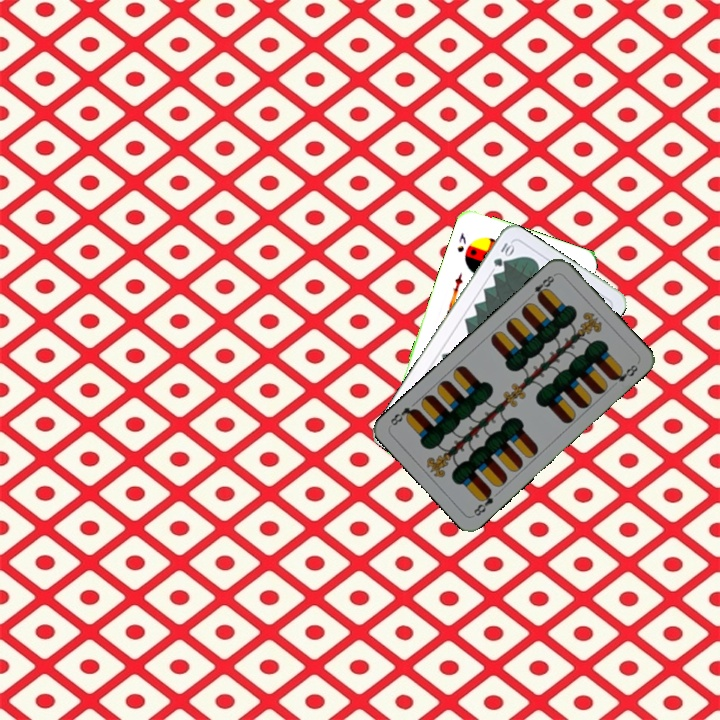E8: (525, 270, 558, 302), (469, 485, 496, 519)
G10: (489, 237, 516, 269)
SK: (453, 228, 469, 255)
